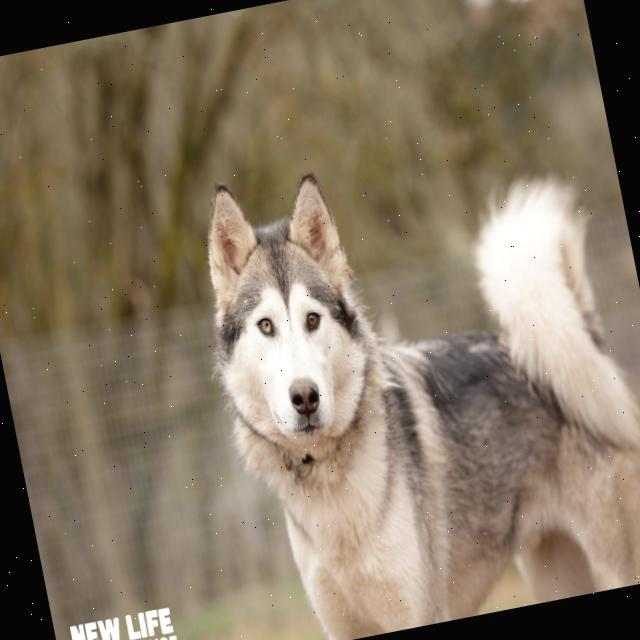siberian_husky_dog: (176, 141, 408, 499)
